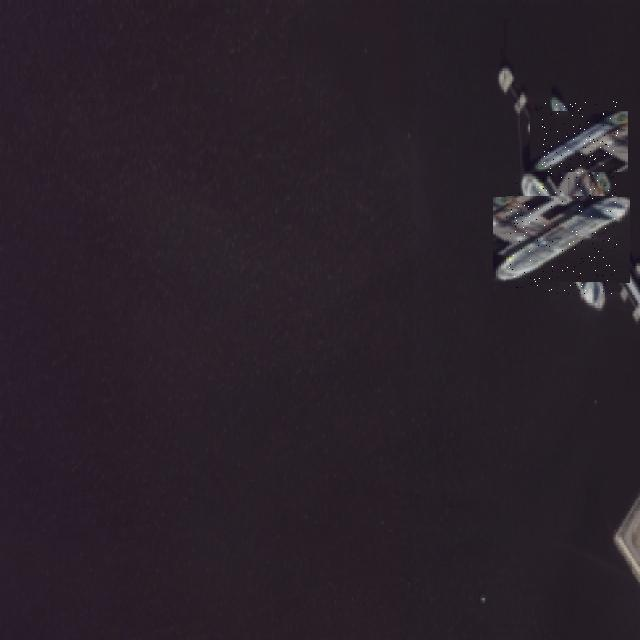boat: (506, 184, 617, 296), (539, 101, 619, 181), (479, 593, 484, 597)
